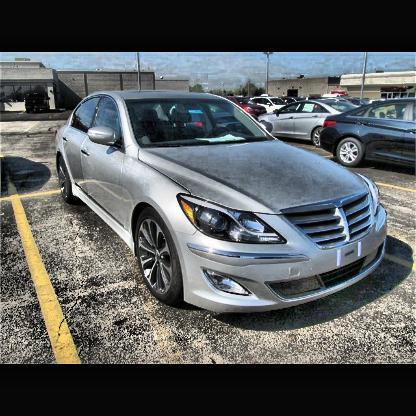Hyundai Genesis Sedan 2012: (55, 90, 387, 314)
